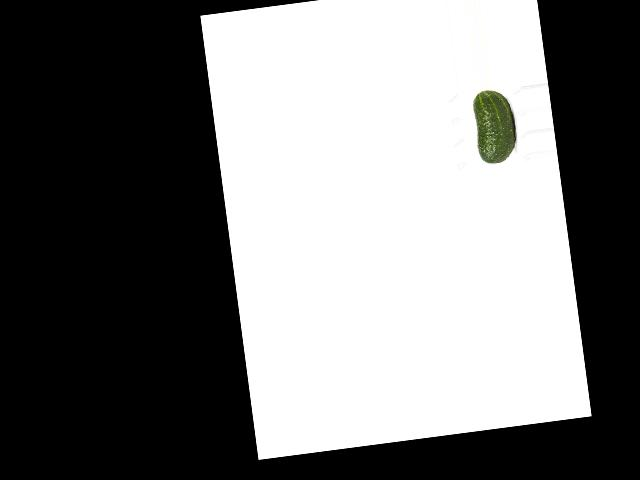cucumber: (471, 87, 519, 165)
